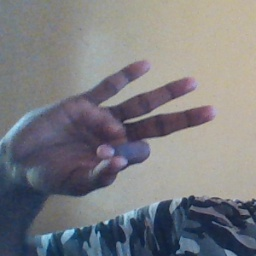K: (13, 60, 214, 194)
